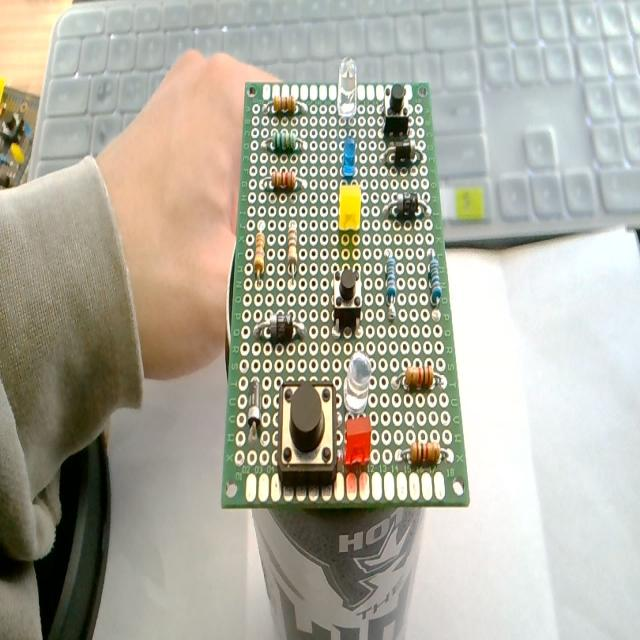diode: (255, 313, 306, 343), (383, 142, 420, 167), (248, 377, 262, 431)
led: (334, 47, 362, 125), (342, 355, 374, 417), (342, 414, 372, 468), (338, 182, 361, 230), (342, 137, 358, 183)
resistor: (382, 246, 439, 318), (428, 251, 442, 307), (385, 253, 397, 318), (406, 362, 434, 389), (411, 441, 440, 466), (272, 129, 295, 152), (272, 169, 296, 191), (254, 231, 265, 278), (287, 223, 297, 271), (274, 94, 295, 114)
switch: (277, 379, 339, 490), (332, 264, 362, 333), (383, 84, 409, 136)
